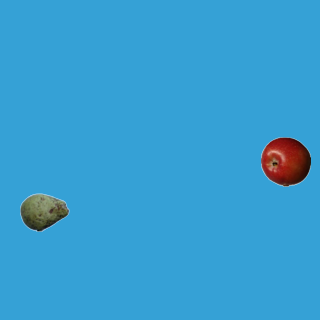Apple Braeburn: (260, 136, 310, 186)
Pear Stone: (19, 187, 69, 237)
